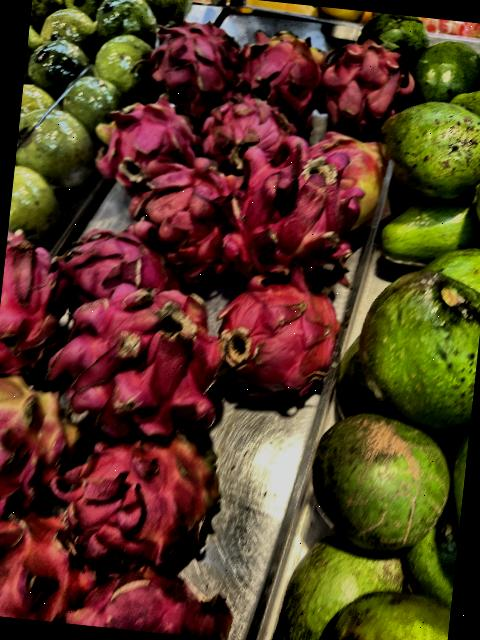buah-naga-belum-matang: (49, 430, 238, 574), (0, 367, 95, 524), (0, 498, 111, 627), (232, 17, 330, 129), (299, 124, 396, 235), (96, 100, 207, 192)
buah-naga-matang: (52, 296, 248, 446), (215, 142, 367, 298), (206, 271, 347, 401), (116, 158, 246, 284), (51, 221, 188, 325), (85, 560, 242, 640), (136, 13, 246, 124), (0, 226, 76, 380), (316, 30, 414, 142), (188, 91, 308, 180)
